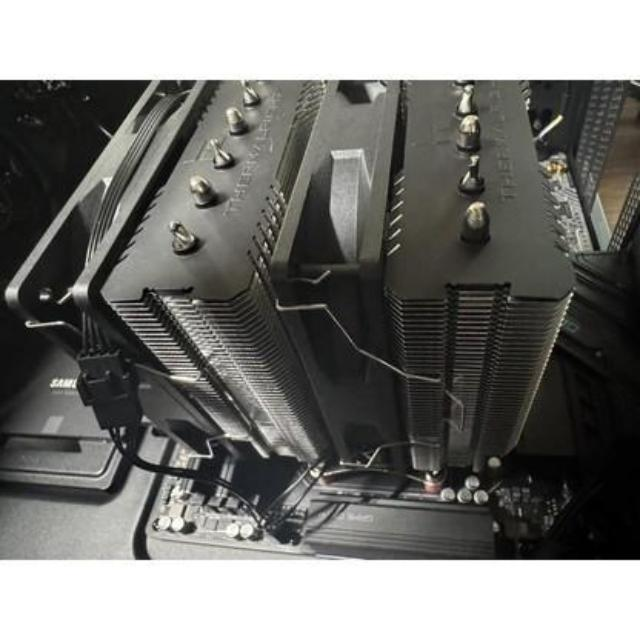CPU_Fan: (6, 67, 574, 487)
